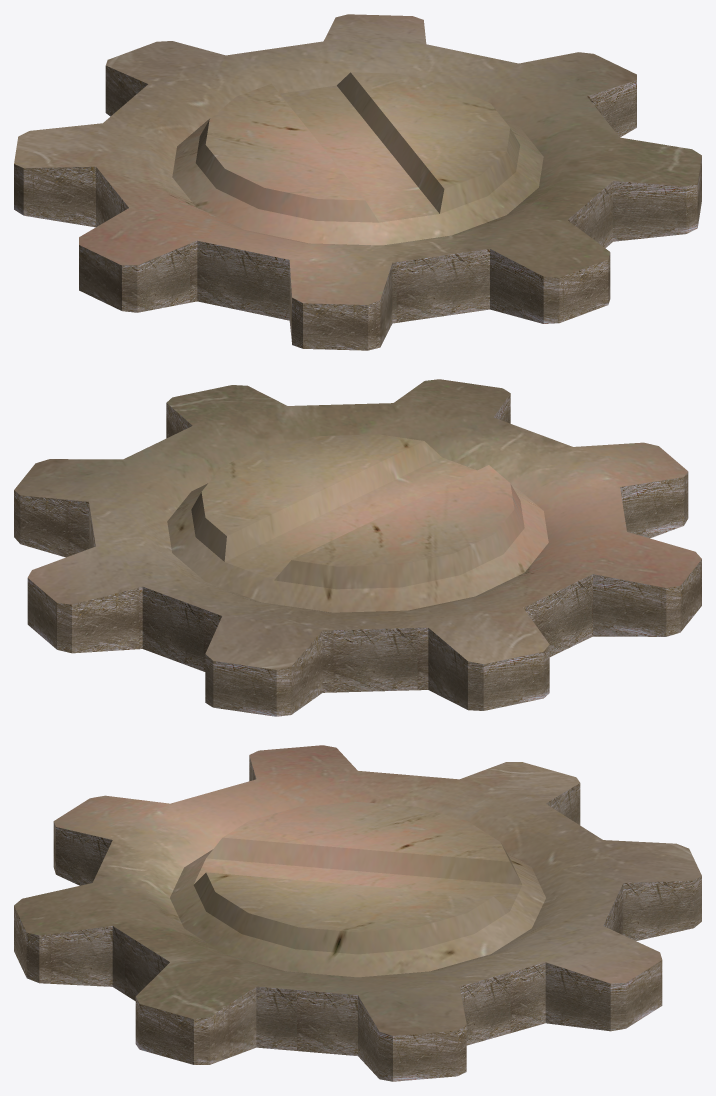
File: cog2.FBX
3 renders of one model, top to bottom at view 1: azimuth 30°, elevation 25°; view 2: azimuth 150°, elevation 25°; view 3: azimuth 270°, elevation 25°, orthographic. The views are drawn at different scales.
Visible parts, largest first — view 1: Cylinder001; view 2: Cylinder001; view 3: Cylinder001.
Boxes of the visible parts, x1=… form: Cylinder001: x1=14, y1=14, x2=701, y2=350; Cylinder001: x1=14, y1=379, x2=701, y2=716; Cylinder001: x1=14, y1=745, x2=701, y2=1081.
Size of the model in its own units: 19.59 by 2.92 by 19.59.
